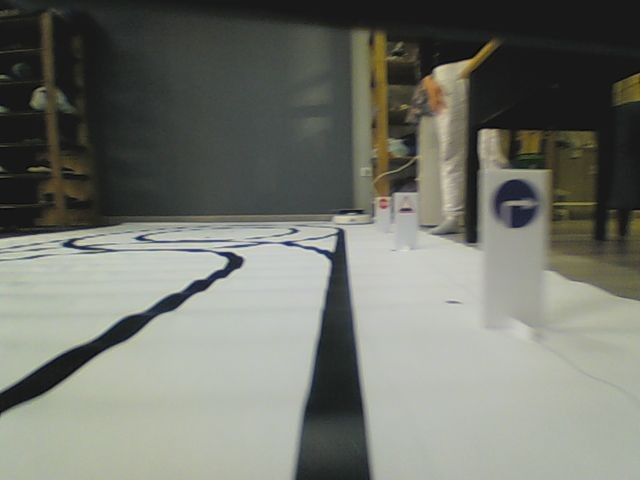Right: (492, 177, 541, 231)
